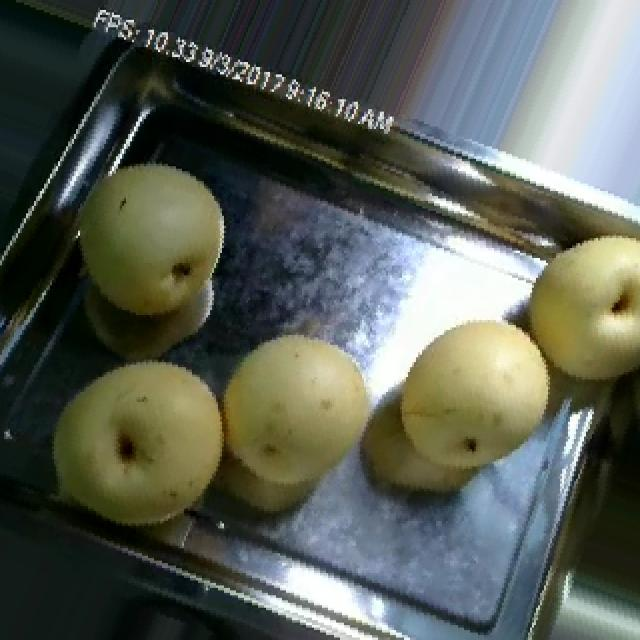Fruit: (360, 293, 578, 531), (34, 332, 256, 554), (202, 305, 398, 546), (56, 132, 254, 362), (502, 208, 640, 407)
